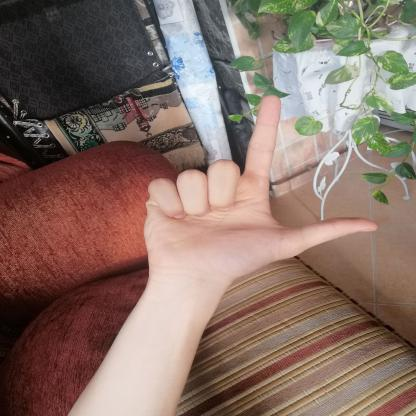LAAM: (128, 86, 388, 289)
